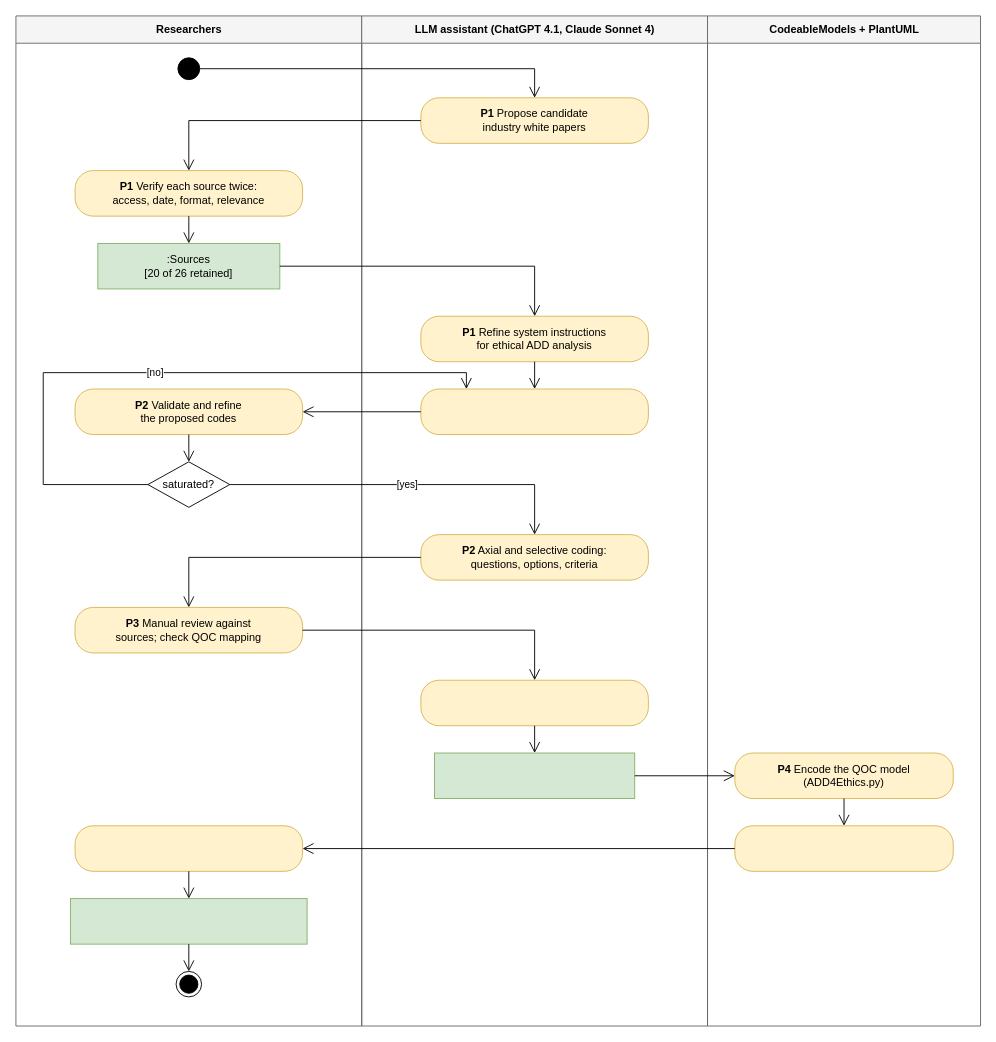
Image size: 996x1042. Some labels were removed from this diagram. Here are the shapes that lost their labels. From the top down, the centre of each, then its label:
(534,411): P2 Open coding: propose ethical concepts
(534,702): P4 Generate ethical ADD records per source
(534,775): :ADD records [258 records, 20 CSV files]
(188,848): P4 Check relationships and hierarchy
(843,848): P4 Render views (PlantUML)
(188,921): :QOC model [32 questions, 64 options, 20 forces]
